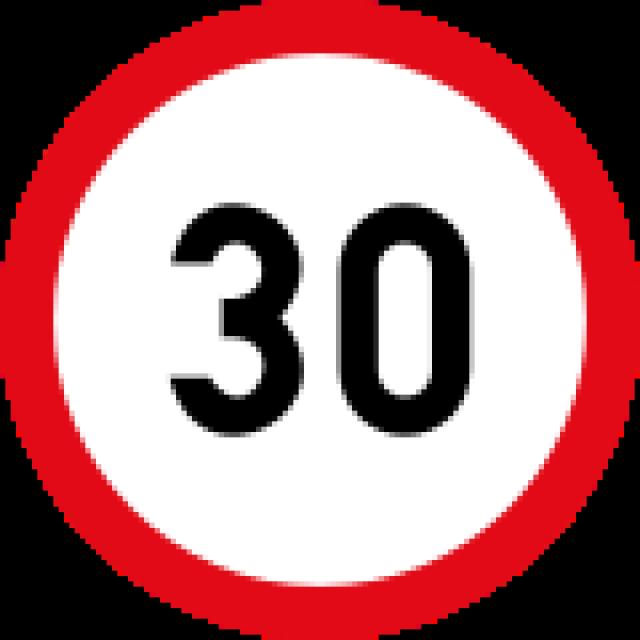Speed Limit -30-: (164, 197, 477, 442)
